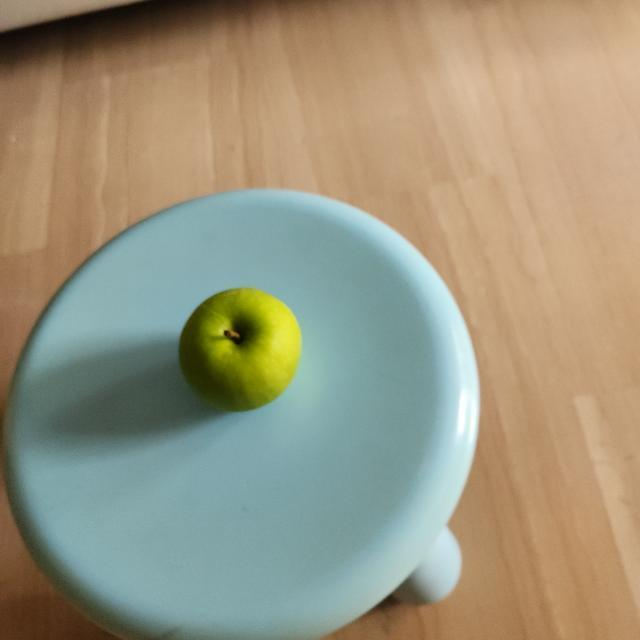apple: (178, 284, 304, 418)
